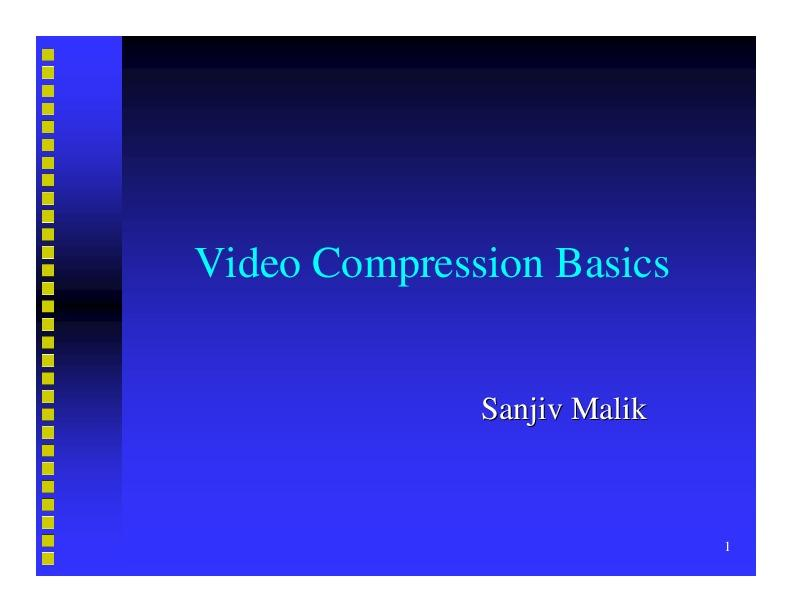subtitle: (476, 374, 671, 454)
title: (186, 231, 674, 293)
